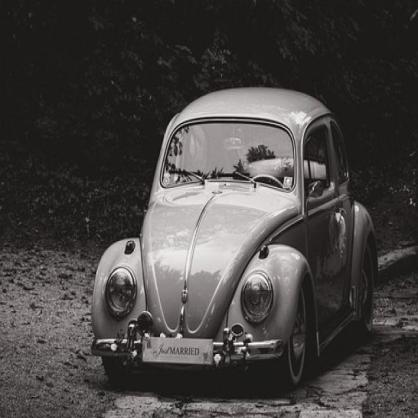car: (94, 86, 378, 393)
